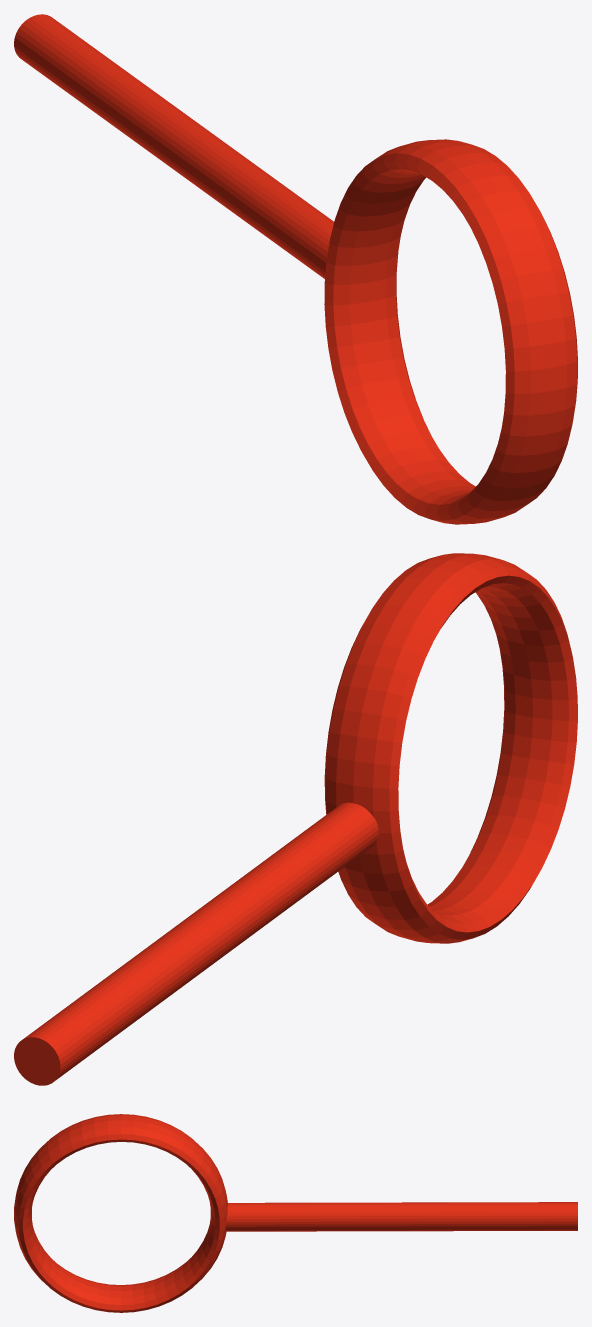
The model's file is Feuerloescher_safetyPin.fbx.
3 views of the same model, one above another, from view 1: azimuth 30°, elevation 25°; view 2: azimuth 150°, elevation 25°; view 3: azimuth 270°, elevation 25° (orthographic). The views are drawn at different scales.
Visible parts, largest first — view 1: Safety_pin; view 2: Safety_pin; view 3: Safety_pin.
Part boxes in pixels (x1,y1,x2,y2): Safety_pin: (14, 14, 577, 524); Safety_pin: (14, 553, 577, 1085); Safety_pin: (14, 1114, 577, 1312).
Bounding box in the file's own units: 0.3512 × 1.2 × 3.15.
